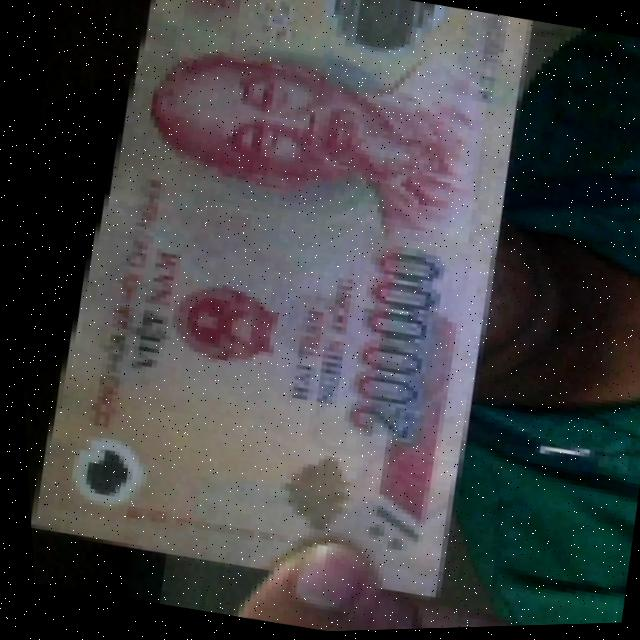200 000 VND: (0, 0, 559, 620)
